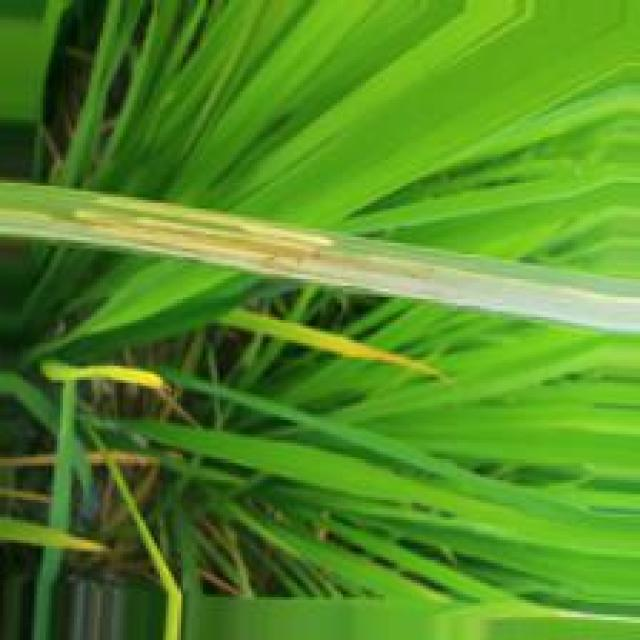Rice_Hispa: (15, 194, 425, 293)
